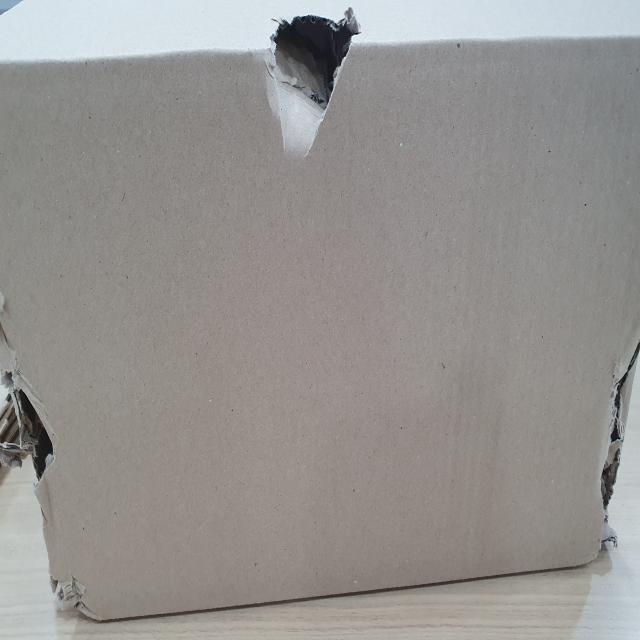hole: (262, 8, 364, 142), (598, 330, 640, 538), (15, 370, 57, 486)
